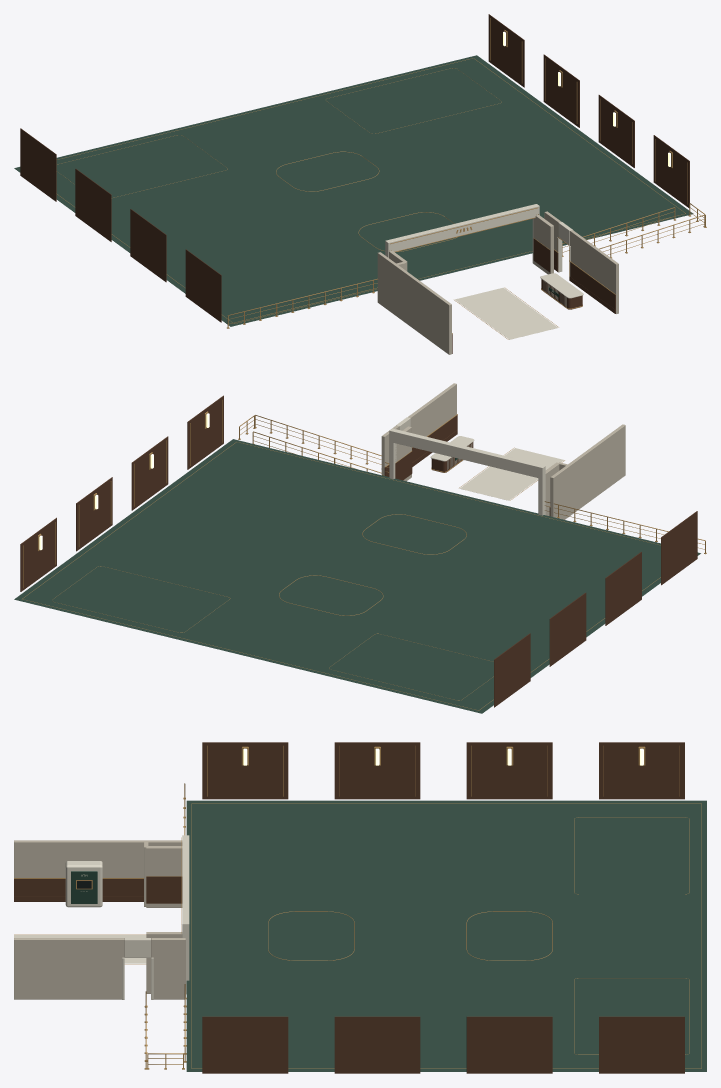
The model's file is meridian-interior.glb.
3 views of the same model, one above another, from view 1: azimuth 30°, elevation 25°; view 2: azimuth 150°, elevation 25°; view 3: azimuth 270°, elevation 25° (orthographic). The views are drawn at different scales.
Parts seen in each view (by area): view 1: Meridian evergreen carpet.004, Meridian walnut.004, Meridian limestone.004, Meridian honed limestone.004, Meridian brushed bronze.004; view 2: Meridian evergreen carpet.004, Meridian walnut.004, Meridian limestone.004, Meridian honed limestone.004, Meridian brushed bronze.004; view 3: Meridian evergreen carpet.004, Meridian walnut.004, Meridian limestone.004, Meridian brushed bronze.004, Meridian honed limestone.004, Meridian evergreen upholstery.004.
Boxes of the visible parts, x1,y1,x2,y2 form: Meridian evergreen carpet.004: [14, 55, 693, 326]; Meridian walnut.004: [20, 14, 689, 353]; Meridian limestone.004: [377, 211, 618, 354]; Meridian honed limestone.004: [385, 204, 583, 339]; Meridian brushed bronze.004: [57, 18, 706, 339]; Meridian evergreen carpet.004: [14, 439, 700, 713]; Meridian walnut.004: [20, 395, 697, 707]; Meridian limestone.004: [381, 383, 625, 519]; Meridian honed limestone.004: [389, 417, 564, 515]; Meridian brushed bronze.004: [22, 399, 706, 710]; Meridian evergreen carpet.004: [186, 800, 706, 1071]; Meridian walnut.004: [14, 742, 684, 1073]; Meridian limestone.004: [14, 840, 185, 999]; Meridian brushed bronze.004: [14, 745, 701, 1069]; Meridian honed limestone.004: [14, 835, 189, 999]; Meridian evergreen upholstery.004: [71, 871, 97, 903].
Bounding box in the file's own units: 39.45 × 4.7 × 41.94.
